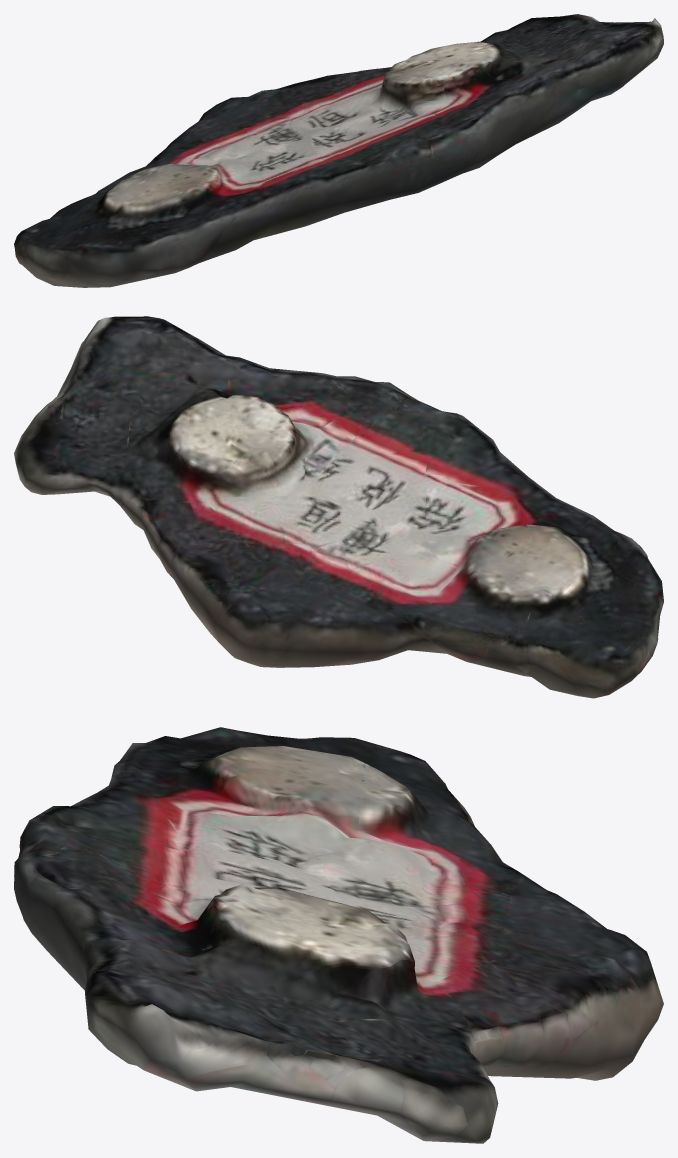
The model's file is hall.glb.
The picture shows the model from 3 angles, top to bottom: view 1: azimuth 30°, elevation 25°; view 2: azimuth 150°, elevation 25°; view 3: azimuth 270°, elevation 25°; orthographic projection. The views are drawn at different scales.
Bounding box in the file's own units: 0.7572 × 0.2239 × 0.4125.
Materials: 1 (1 with a texture image).
